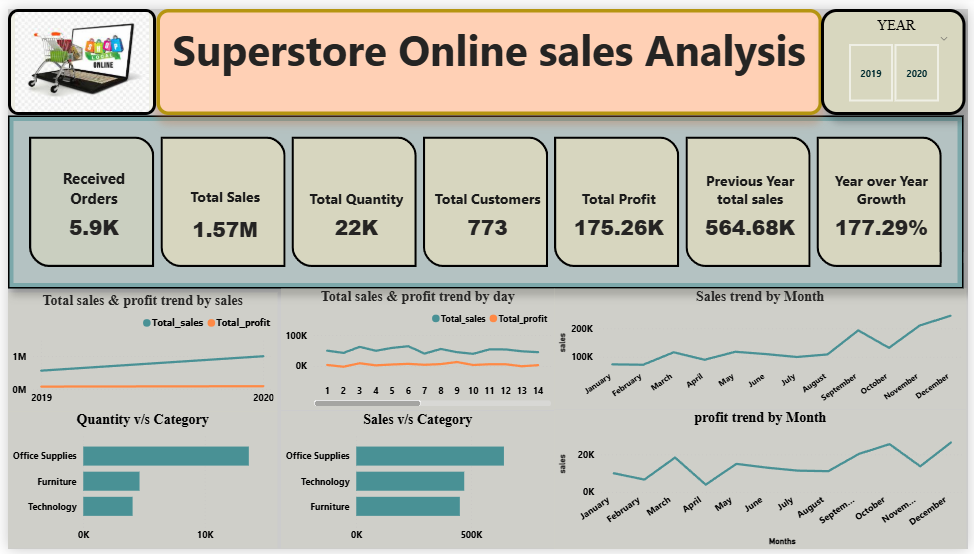

The page's visual inventory and layout, read from the dashboard file:
{"tool":"powerbi","page":{"name":"1","canvas":[1280,720],"ordinal":0},"visuals":[{"type":"cardVisual","fields":{"Data":["Sheet1.Total_orders","Sheet1.Total_sales","Sheet1.Total_Quantity","Sheet1.Total_customers","Sheet1.Total_profit","Sheet1.Total sales py","Sheet1.YOY Growth %"]},"box":[0,141.6,1274.1,230.6],"z":0},{"type":"lineChart","title":"profit trend  by Month","fields":{"Y":["Sheet1.Total_profit"],"Category":["Sheet1.Order Date.Variation.Date Hierarchy.Month"]},"box":[728.7,534,550.2,186.6],"z":1000},{"type":"lineChart","title":"Total sales & profit trend by sales","fields":{"Category":["Sheet1.Year"],"Y":["Sheet1.Total_sales","Sheet1.Total_profit"]},"box":[0,378,359.1,158.7],"z":2000},{"type":"lineChart","title":"Total sales & profit trend by day","fields":{"Category":["Sheet1.Ship Date.Variation.Date Hierarchy.Day"],"Y":["Sheet1.Total_sales","Sheet1.Total_profit"]},"box":[364.7,372.3,364.7,162.5],"z":3000},{"type":"barChart","title":" Quantity v/s Category","fields":{"Category":["Sheet1.Category"],"Y":["Sum(Sheet1.Quantity)"]},"box":[0,536.7,359.1,183.3],"z":4000},{"type":"barChart","title":" Sales v/s Category","fields":{"Category":["Sheet1.Category"],"Y":["Sum(Sheet1.Sales)"]},"box":[364.7,536.7,364.7,183.3],"z":5000},{"type":"lineChart","title":"Sales trend by Month","fields":{"Category":["Sheet1.Order Date.Variation.Date Hierarchy.Month"],"Y":["Sum(Sheet1.Sales)"]},"box":[729,372.5,549.7,161.3],"z":6000},{"type":"textbox","box":[197.2,0,887.6,141.6],"z":7000},{"type":"slicer","title":"YEAR","fields":{"Values":["Sheet1.Order Date.Variation.Date Hierarchy.Year"]},"box":[1084.8,0,192.5,141.6],"z":8000},{"type":"image","box":[0,0,197.2,141.6],"z":9000}]}

Visuals, with their boxes in screenshot pixels (x1, y1, x2, y2), scaled from the page's 1280x720 canvas onto the 974x554 screenshot:
cardVisual - Sheet1.Total_orders x Sheet1.Total_sales: (left=0, top=109, right=970, bottom=286)
"profit trend  by Month" lineChart: (left=554, top=411, right=973, bottom=553)
"Total sales & profit trend by sales" lineChart: (left=0, top=291, right=273, bottom=413)
"Total sales & profit trend by day" lineChart: (left=278, top=286, right=555, bottom=411)
" Quantity v/s Category" barChart: (left=0, top=413, right=273, bottom=553)
" Sales v/s Category" barChart: (left=278, top=413, right=555, bottom=553)
"Sales trend by Month" lineChart: (left=555, top=287, right=973, bottom=411)
textbox: (left=150, top=0, right=825, bottom=109)
"YEAR" slicer: (left=825, top=0, right=972, bottom=109)
image: (left=0, top=0, right=150, bottom=109)
